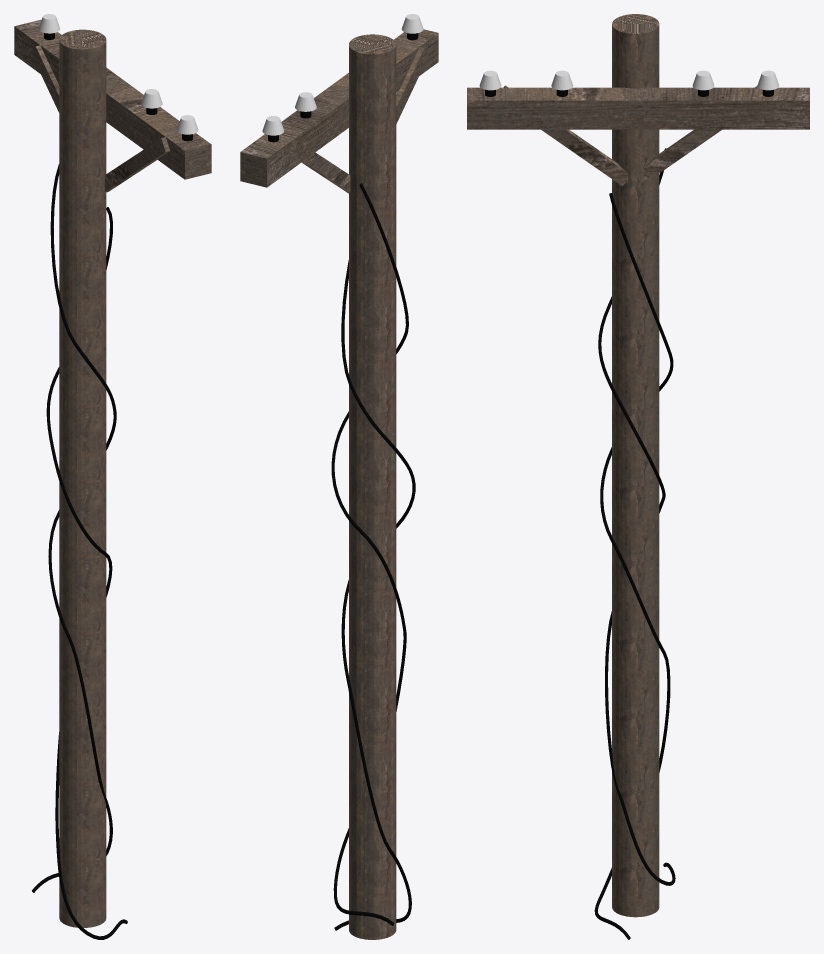
The model's file is telephone_pole_with_wires.glb.
3 renders of one model, left to right at view 1: azimuth 30°, elevation 25°; view 2: azimuth 150°, elevation 25°; view 3: azimuth 270°, elevation 25°, orthographic.
Visible parts, largest first — view 1: Circle_0, object 2; view 2: Circle_0, object 2; view 3: Circle_0, object 2.
Boxes of the visible parts, x1,y1,x2,y2 form: Circle_0: (14, 14, 211, 927); object 2: (32, 164, 127, 939); Circle_0: (240, 14, 438, 939); object 2: (331, 183, 415, 930); Circle_0: (467, 14, 809, 917); object 2: (594, 148, 675, 939).
Bounding box in the file's own units: 2.24 × 23.58 × 8.17.
3 materials, 1 textured.
